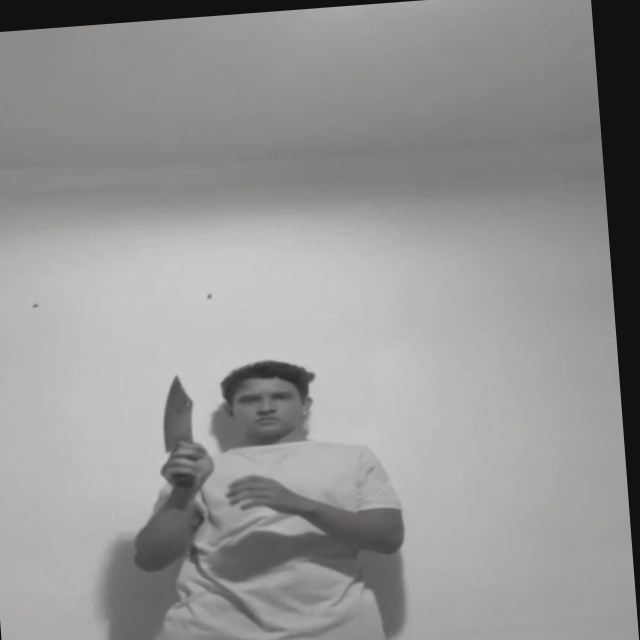Sharp-Object: (156, 372, 200, 447)
